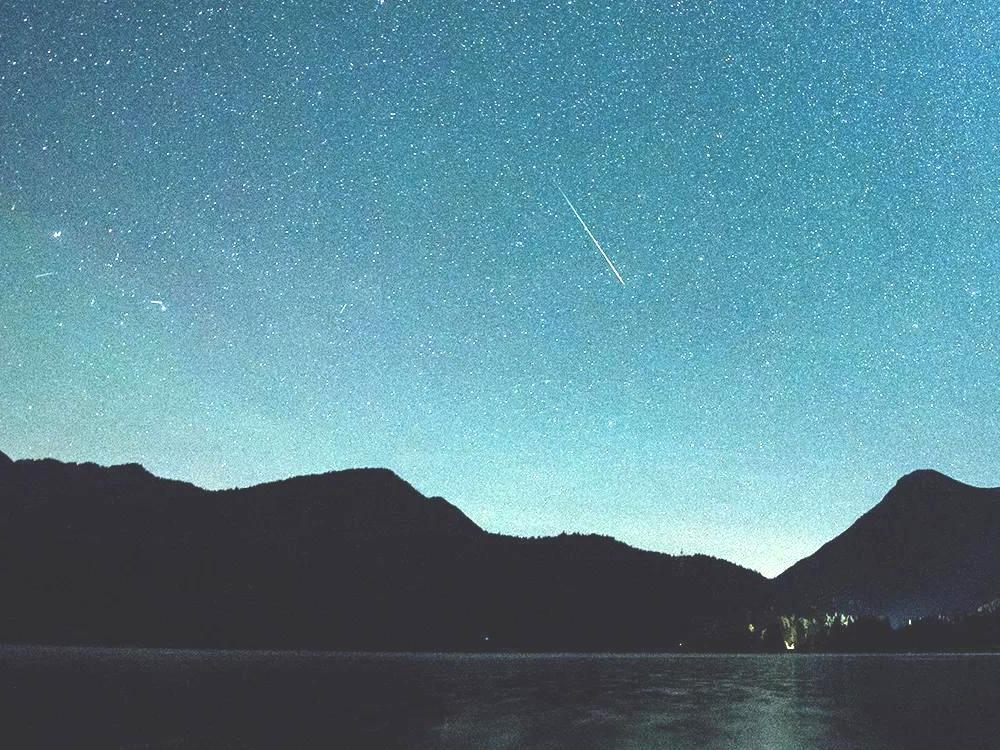meteorite: (549, 198, 636, 292)
